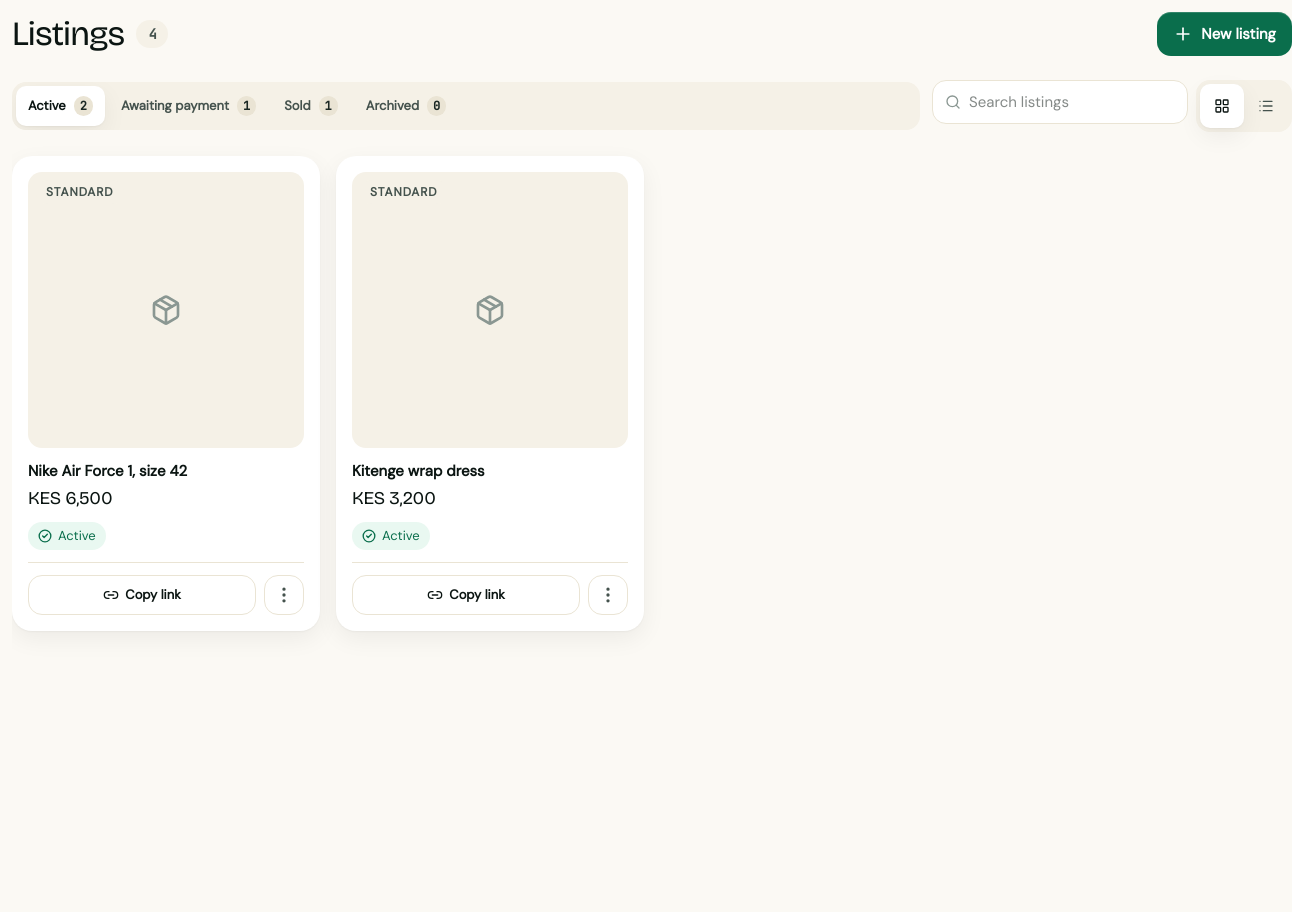
Scenario: S8 listings › shows active listings with the server counts, filters and search
Expected: the button "Nike Air Force 1, size 42" is shown, [28,460,304,482]
Expected: the text "3-seater sofa" is not shown
Click the radio button labelled "Awaiting payment 1" at [189, 106], box [121,96,256,116]
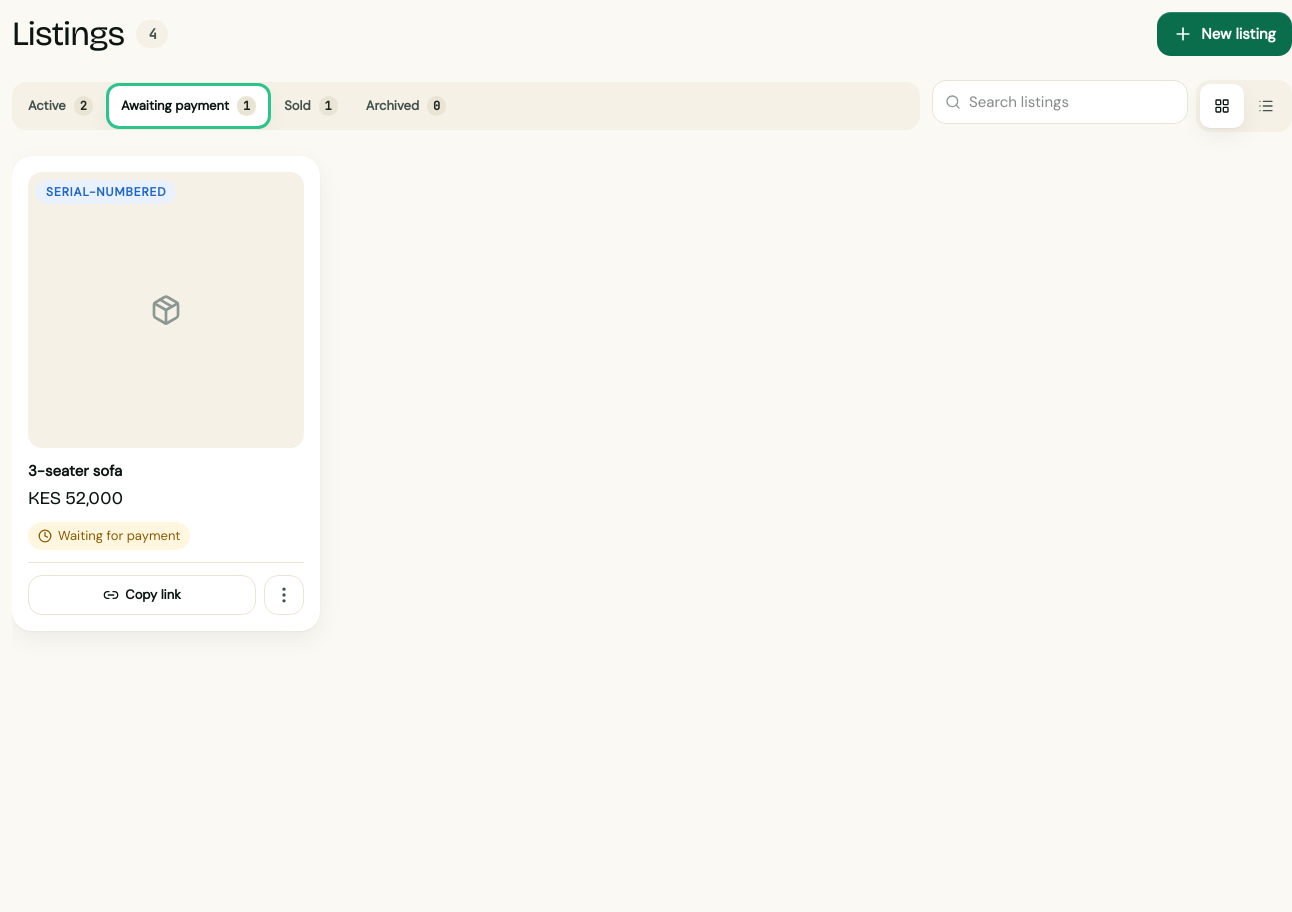
Result: the button "3-seater sofa" is shown at [28,460,304,482]
Click the radio button labelled "Active 2" at [60, 106], box [28,96,93,116]
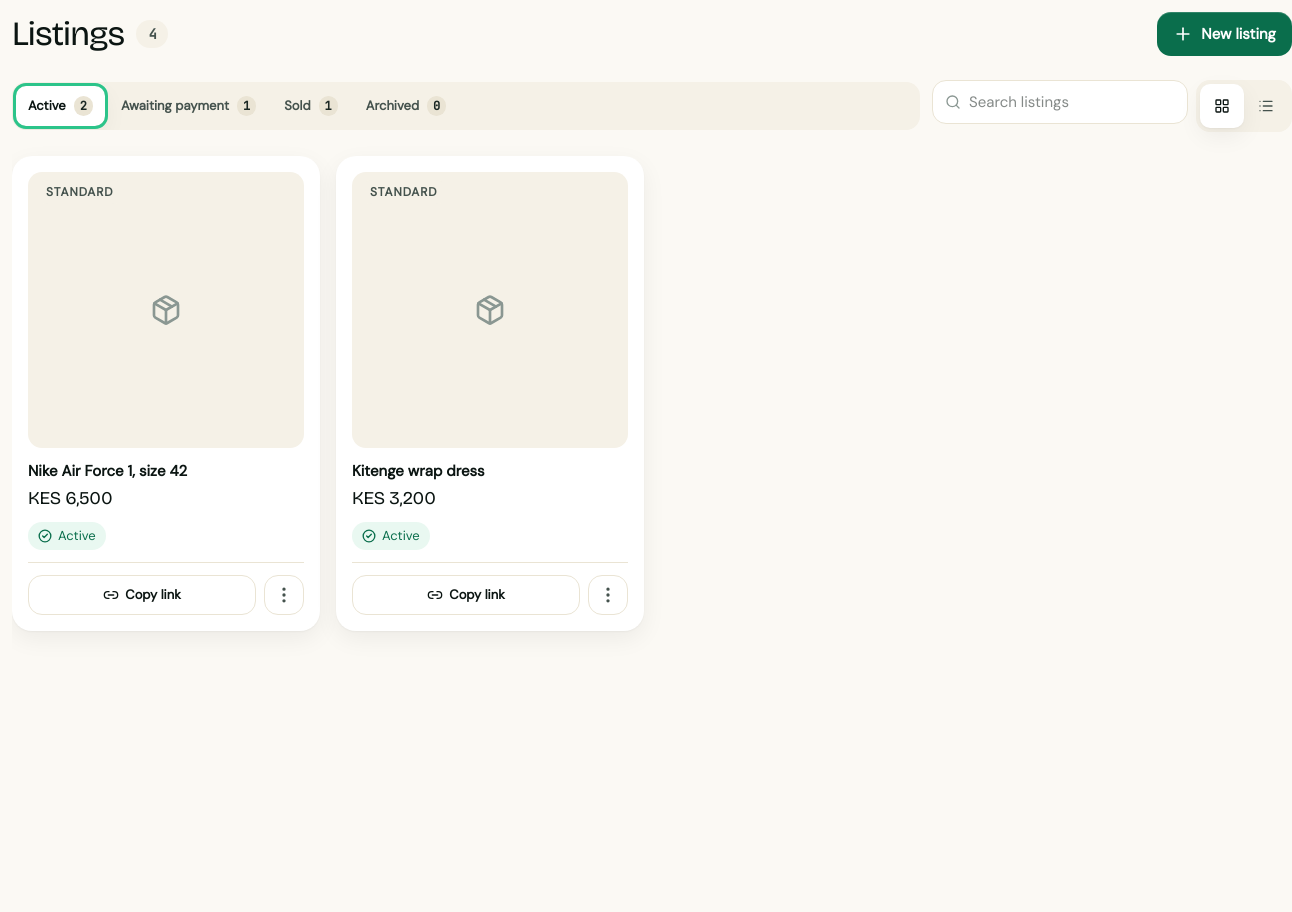
Type "zzz" into the search field labelled "Search listings" at [1072, 102], box [969,91,1175,113]
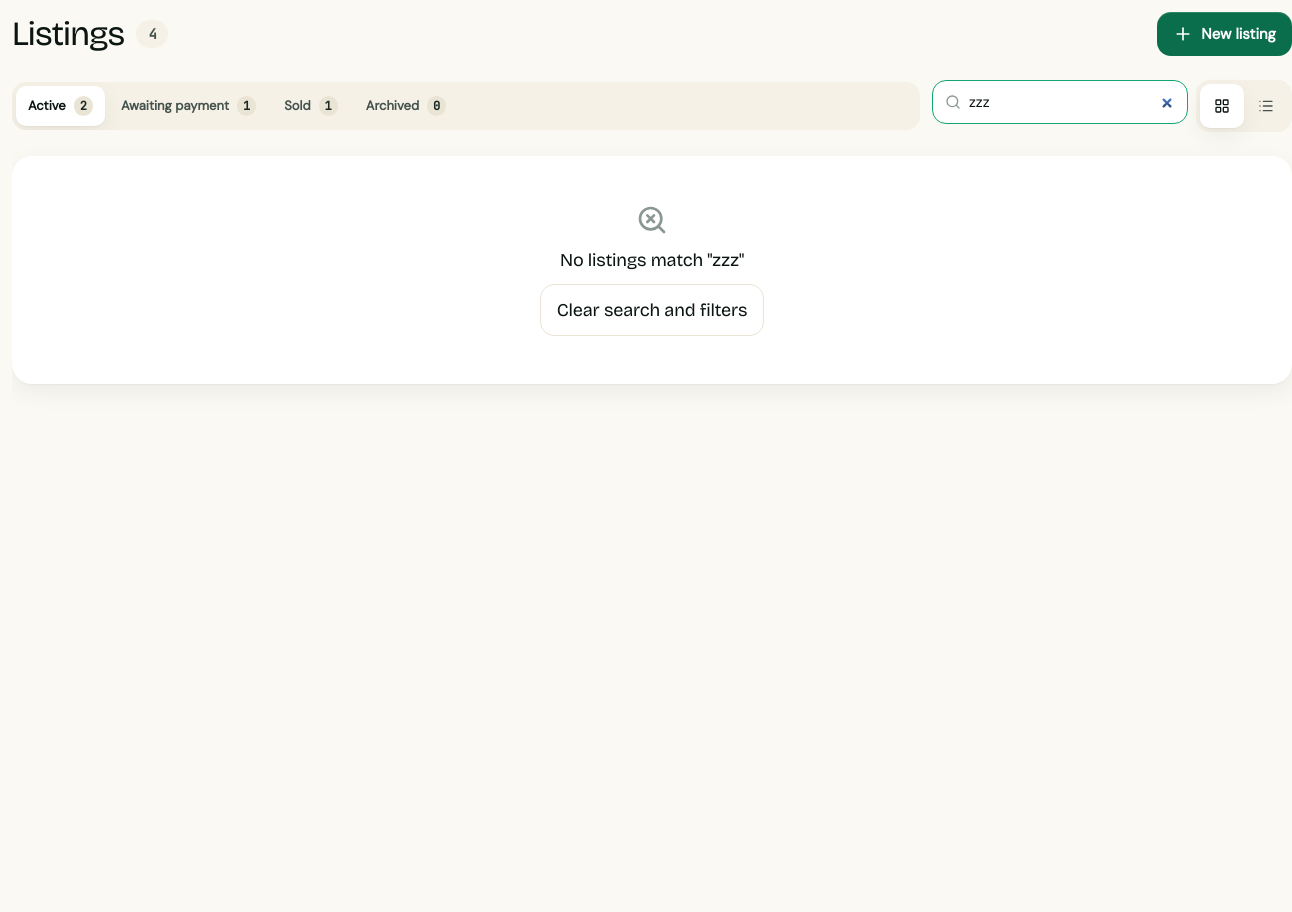
Result: the text "No listings match \"zzz\"" is shown at [560,248,744,272]
